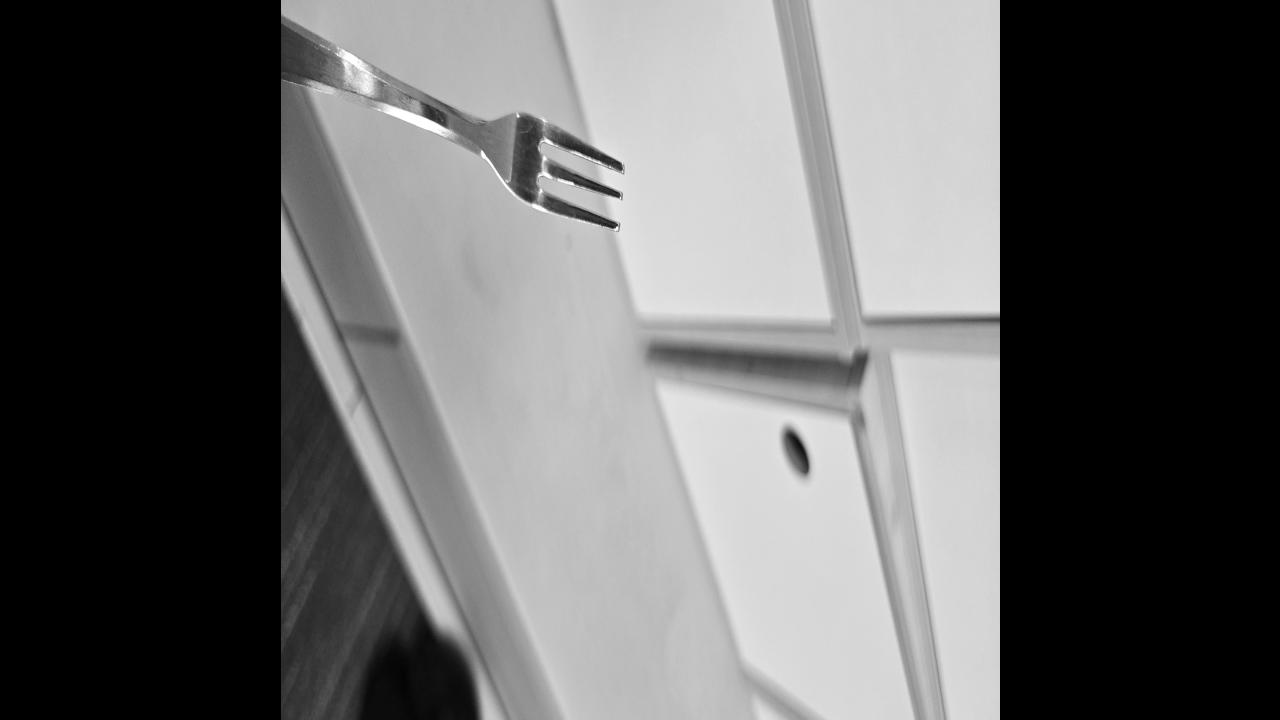fork: (280, 14, 626, 236)
